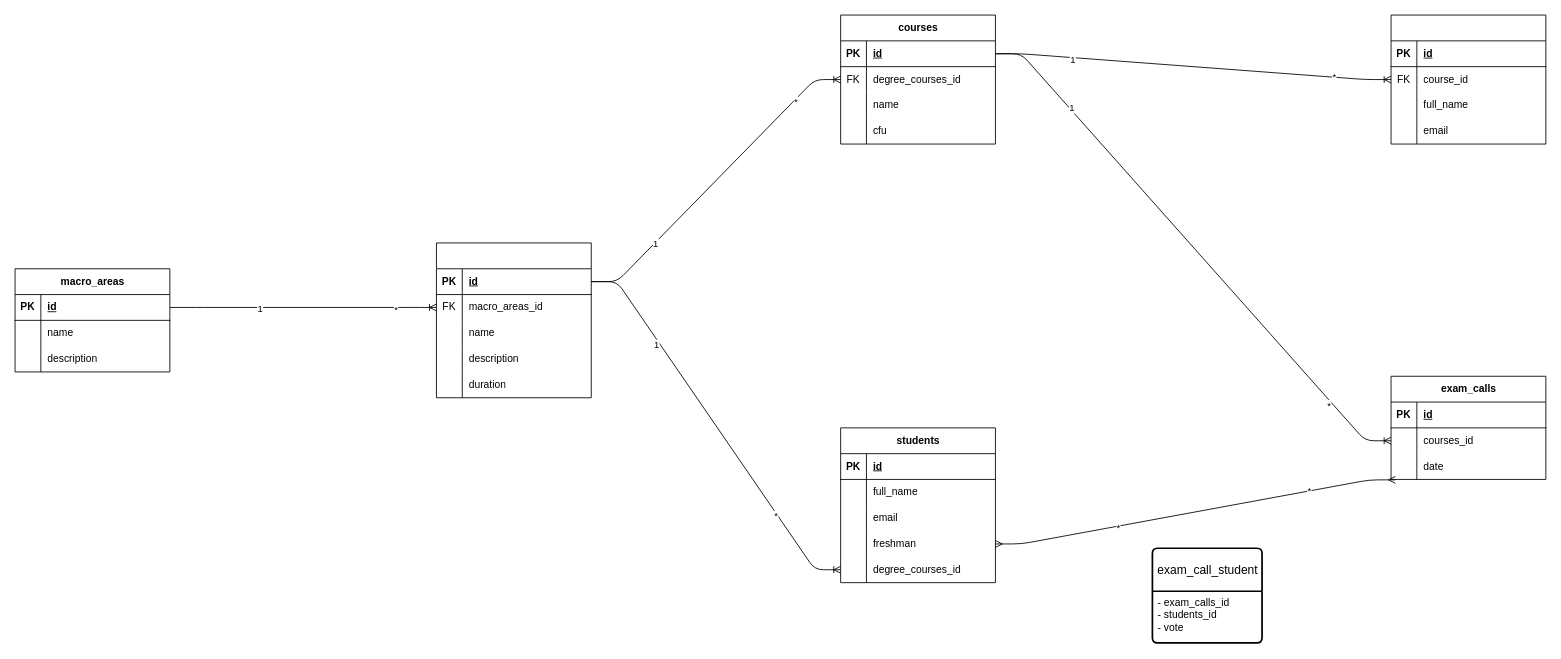
Some shapes in this 1561 by 659 pixel diagram are drawn without their labels. The shapes that lost their labels are listed below. From the top down, each one's box as (x1, y1, x2, y2) in pixels, then its label:
(1390, 14, 1546, 144): teachers
(436, 242, 591, 398): degree_courses
